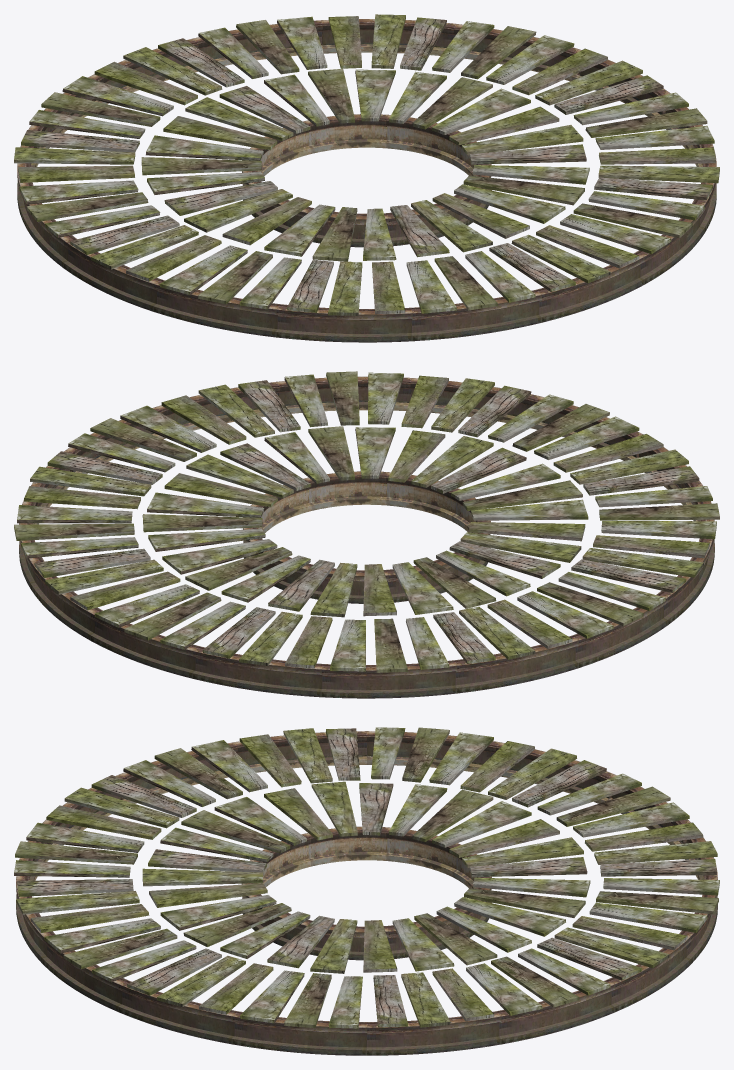
File: Circle ramp.fbx
3 views of the same model, one above another, from view 1: azimuth 30°, elevation 25°; view 2: azimuth 150°, elevation 25°; view 3: azimuth 270°, elevation 25° (orthographic).
Visible parts, largest first — view 1: circle ramp; view 2: circle ramp; view 3: circle ramp.
Boxes of the visible parts, box(x1,y1,x2,y2) form: circle ramp: box(14, 14, 719, 342); circle ramp: box(14, 371, 719, 698); circle ramp: box(14, 727, 719, 1055).
Bounding box in the file's own units: 607 × 29.6 × 607.
